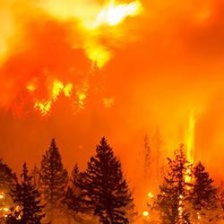fire: (27, 69, 107, 126), (75, 1, 148, 38), (173, 120, 195, 220), (2, 191, 15, 220)
